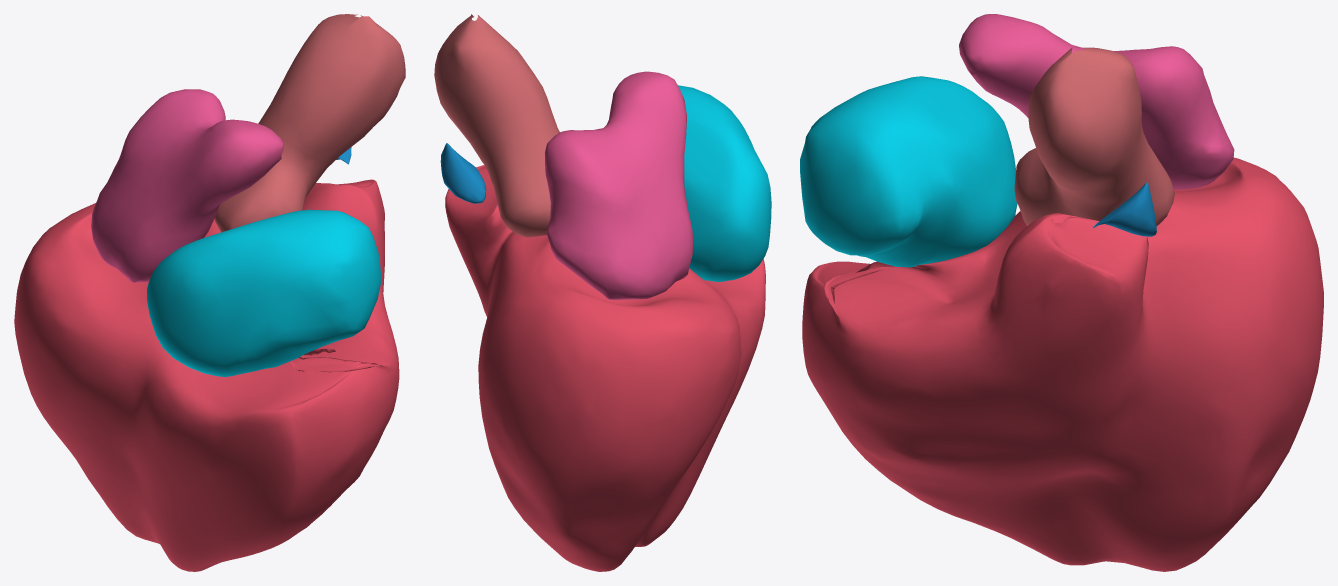
Rendered from frame_13.glb.
3 renders of one model, left to right at view 1: azimuth 30°, elevation 25°; view 2: azimuth 150°, elevation 25°; view 3: azimuth 270°, elevation 25°, orthographic. The views are drawn at different scales.
Visible parts, largest first — view 1: Renderer Node; view 2: Renderer Node; view 3: Renderer Node.
Boxes of the visible parts, x1,y1,x2,y2 form: Renderer Node: (14,14,405,571); Renderer Node: (434,14,771,571); Renderer Node: (800,14,1323,571).
Size of the model in its own units: 106 by 157 by 121.
